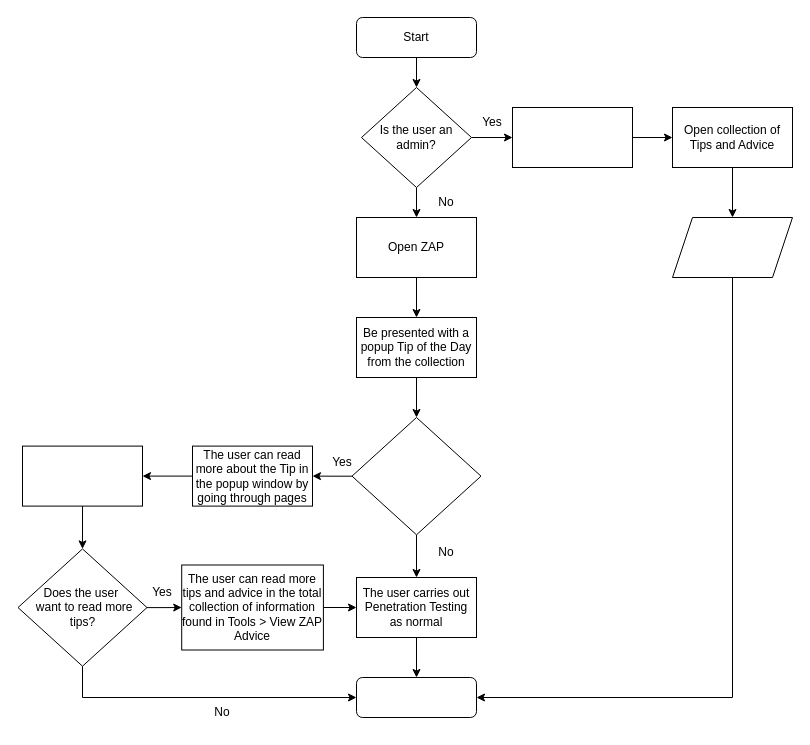
Some shapes in this 810 by 745 pixel diagram are drawn without their labels. Here are the shapes that lost their labels. From the top down, the centre of each, then its label:
At [572,137]: "Open ZAP Dev Build".
At [732,247]: "Add/Edit Tips and Advice".
At [82,475]: "At the final page, the user can choose to close the window or read more".
At [416,475]: "Does the user want to read more about the Tip?".
At [416,697]: "End".
